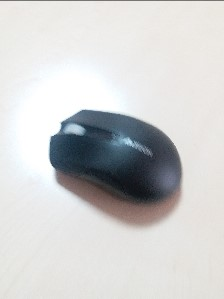mouse: (49, 109, 181, 207)
